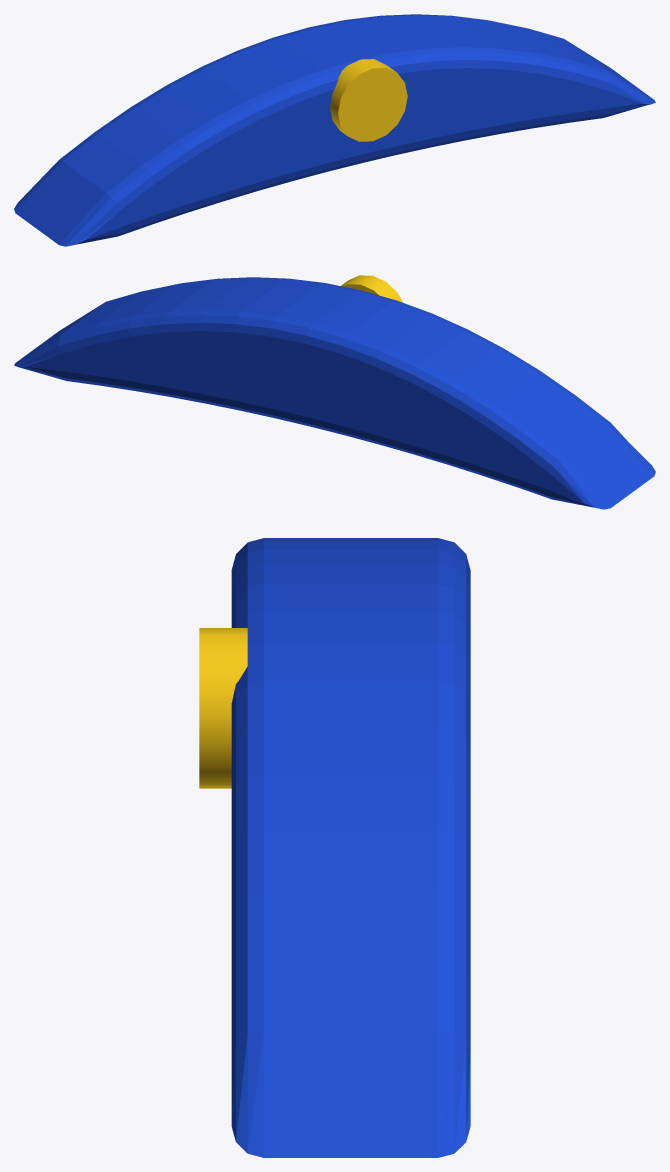
Rendered from admiral_bicorne.glb.
3 views of the same model, one above another, from view 1: azimuth 30°, elevation 25°; view 2: azimuth 150°, elevation 25°; view 3: azimuth 270°, elevation 25° (orthographic). The views are drawn at different scales.
Visible parts, largest first — view 1: bicorne_crest, bicorne_cockade; view 2: bicorne_crest, bicorne_cockade; view 3: bicorne_crest, bicorne_cockade.
Part boxes in pixels (box(x1,y1,x2,y2)): bicorne_crest: box(14, 14, 655, 246); bicorne_cockade: box(330, 59, 407, 141); bicorne_crest: box(14, 277, 655, 509); bicorne_cockade: box(341, 275, 402, 302); bicorne_crest: box(231, 538, 470, 1157); bicorne_cockade: box(199, 628, 247, 788).
Bounding box in the file's own units: 0.5122 × 0.0984 × 0.101.
